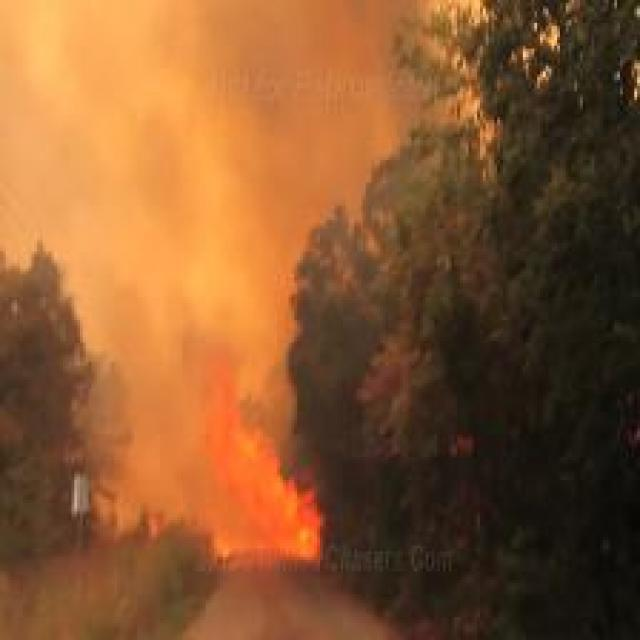Fire: (203, 386, 326, 563)
